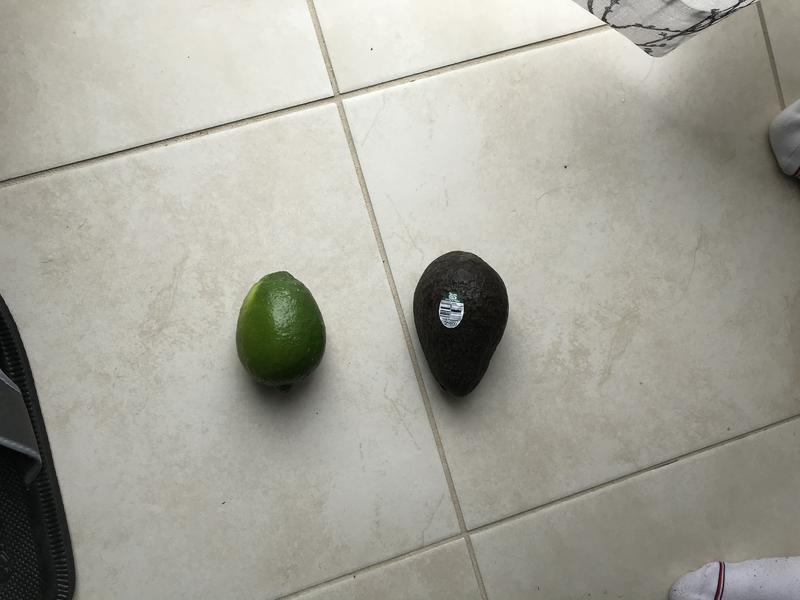avocado: (406, 240, 518, 418)
lime: (226, 261, 333, 395)
